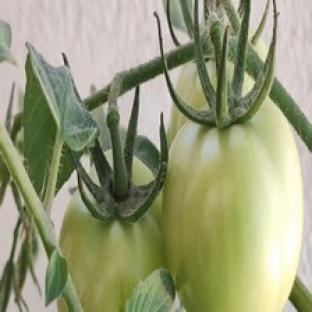Tomato: (163, 99, 303, 311), (60, 193, 164, 311), (176, 62, 208, 110)
